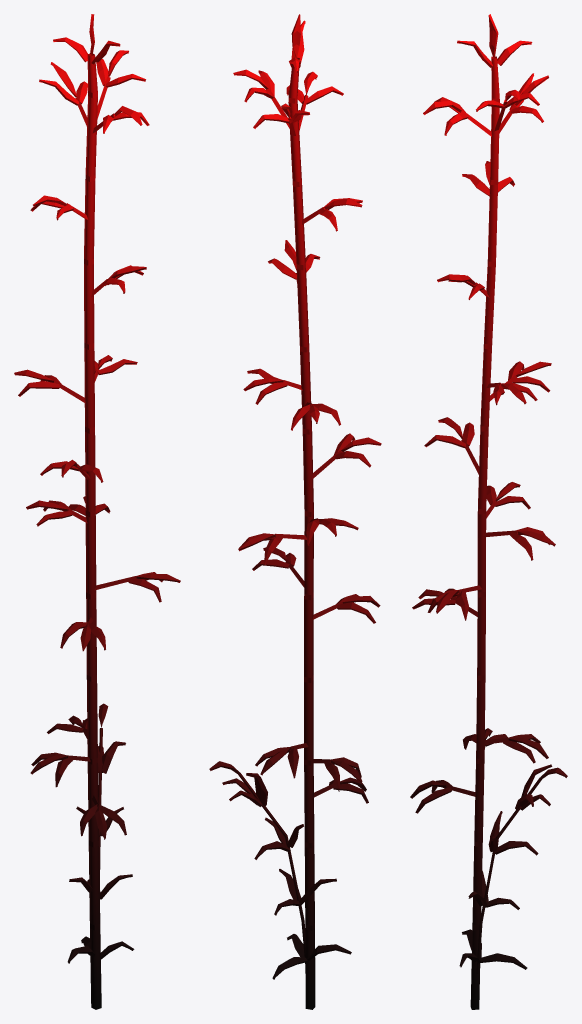
Rendered from TreeBamboo09.fbx.
3 views of the same model, side by side, from view 1: azimuth 30°, elevation 25°; view 2: azimuth 150°, elevation 25°; view 3: azimuth 270°, elevation 25° (orthographic).
Visible parts, largest first — view 1: TreeBamboo09_LOD0; view 2: TreeBamboo09_LOD0; view 3: TreeBamboo09_LOD0.
Boxes of the visible parts, bbox=[...] form: TreeBamboo09_LOD0: bbox=[14, 14, 180, 1009]; TreeBamboo09_LOD0: bbox=[209, 14, 381, 1009]; TreeBamboo09_LOD0: bbox=[410, 14, 567, 1009].
Size of what is drawn, in the model's own units: 102 by 775 by 111.
